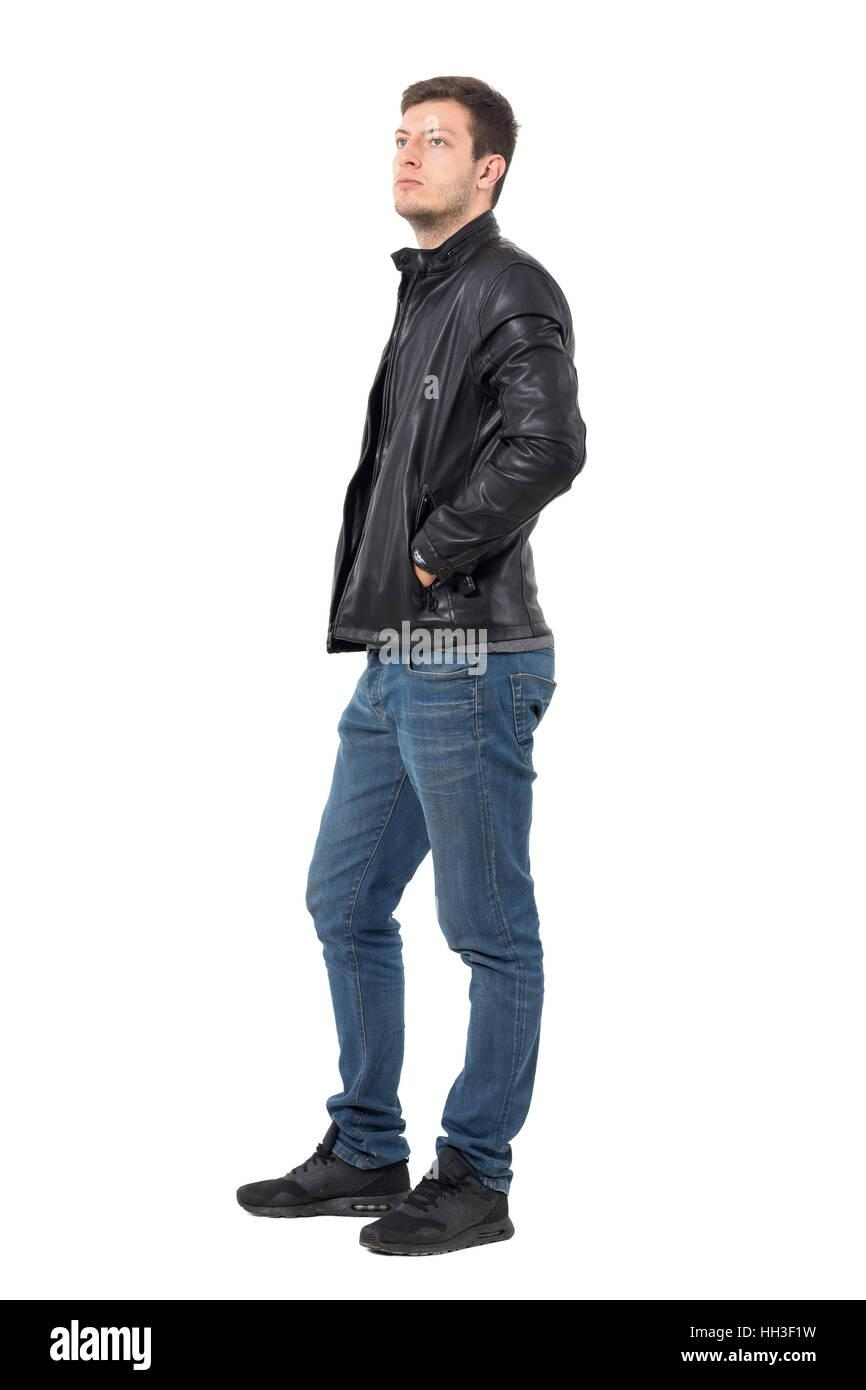jacket: (320, 205, 590, 670)
trousers: (302, 635, 562, 1201)
